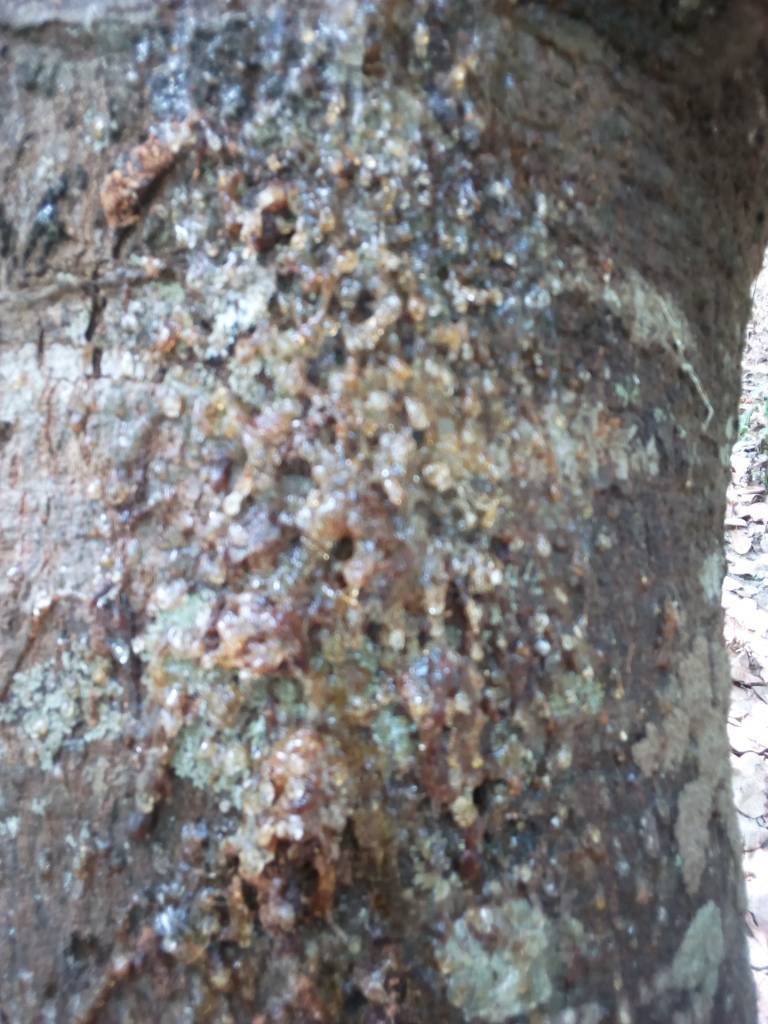Mecocorynus longiceps: (74, 79, 701, 514), (49, 553, 656, 909)
